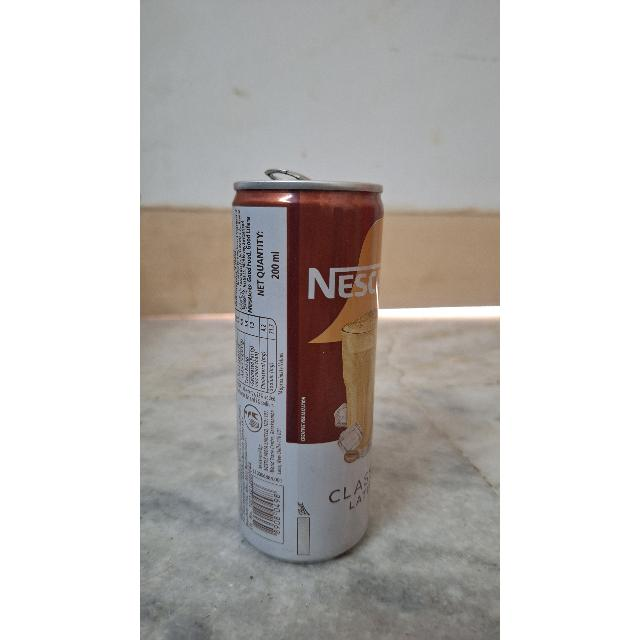Nescafe Classic Iced Latte: (211, 172, 379, 562)
